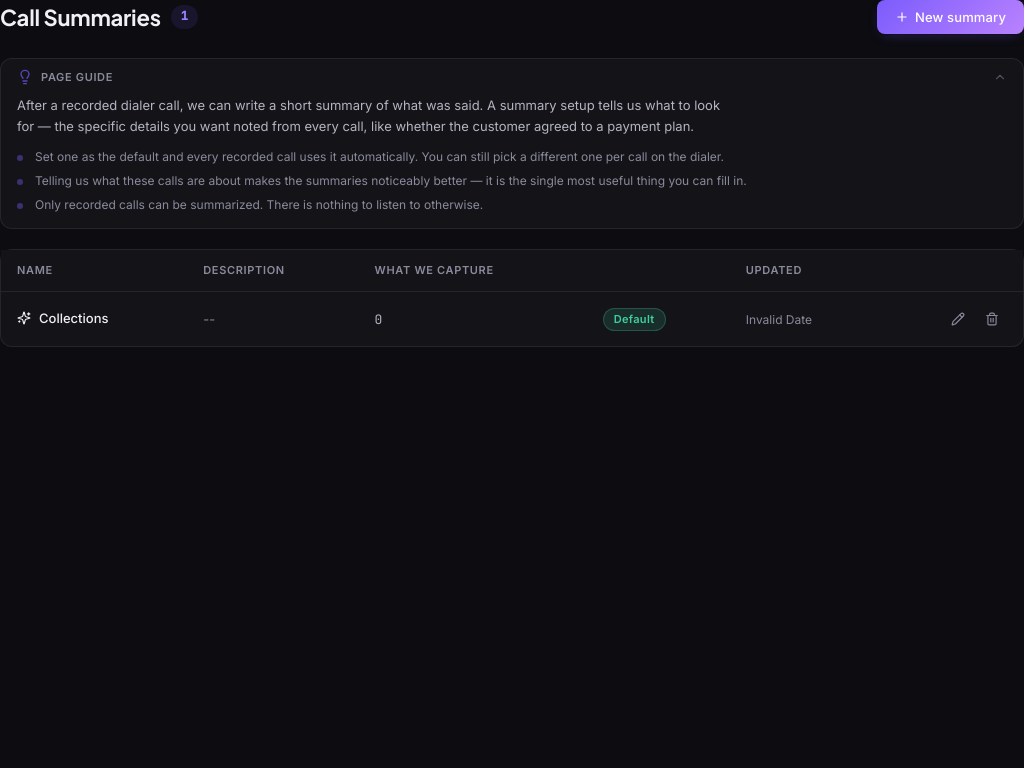
AnalysisProfilesPage — a refused delete has to reach the operator › falls back to a plain message only when the failure carries no body
Click the button named "Delete Collections".
click(992, 320)  # box 977,304 -> 1007,334
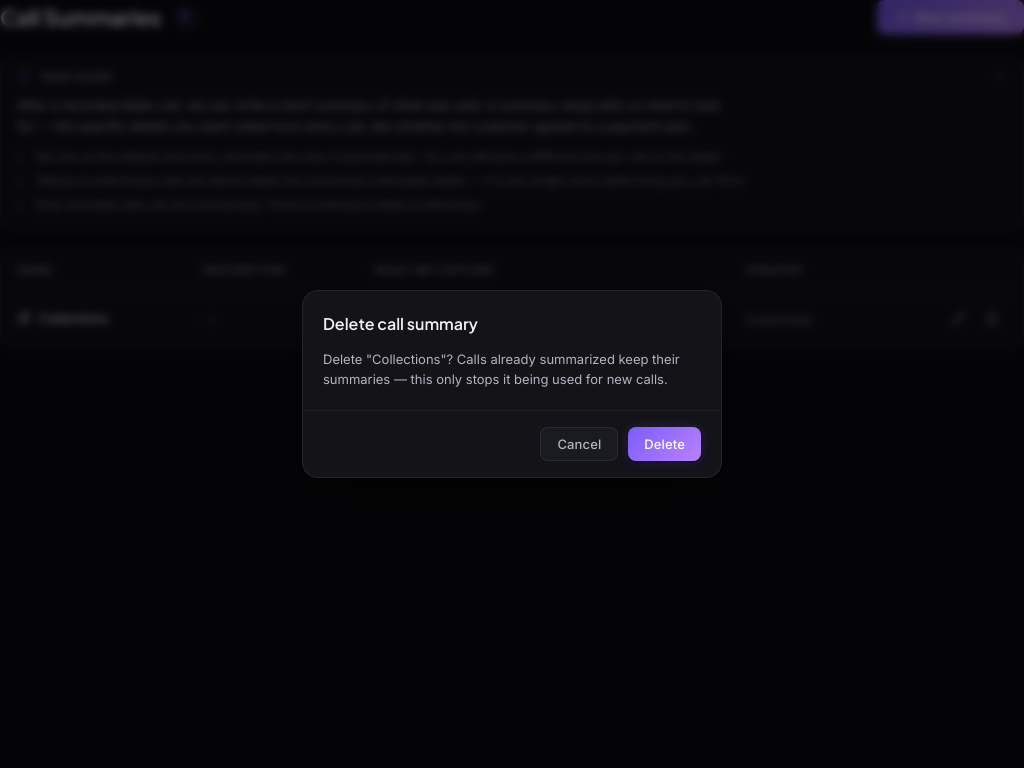
Click the button "Delete".
click(665, 444)  # box 628,427 -> 701,461
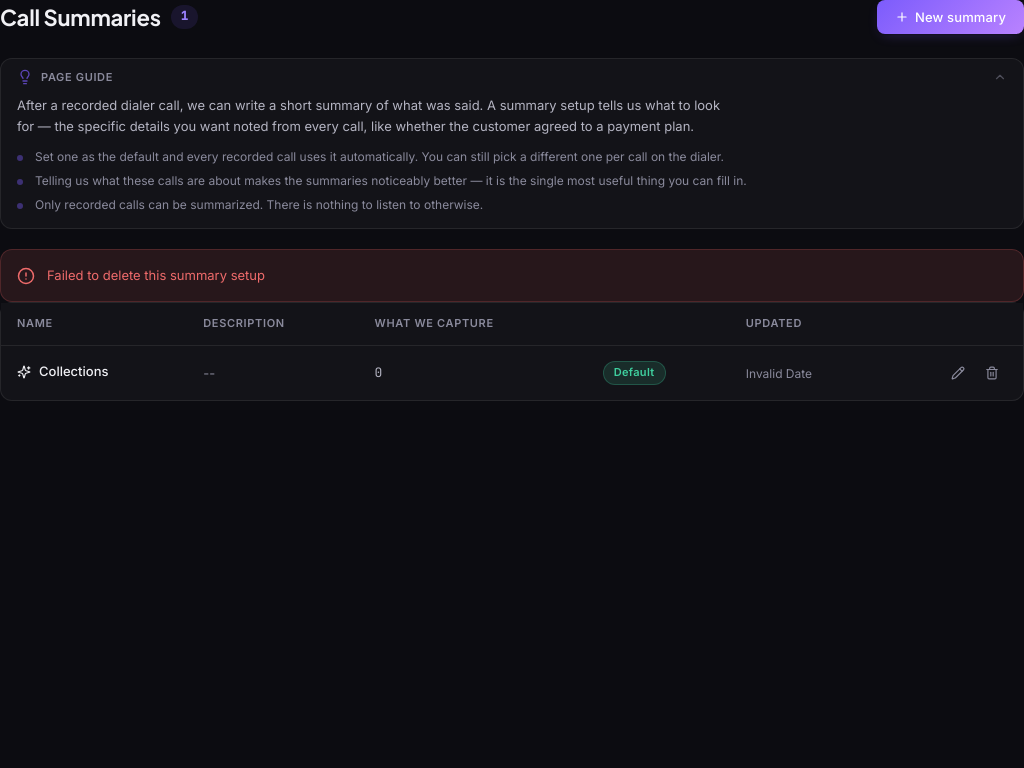
Check: the text "Failed to delete this summary setup" is shown, box 47,267 -> 265,283
